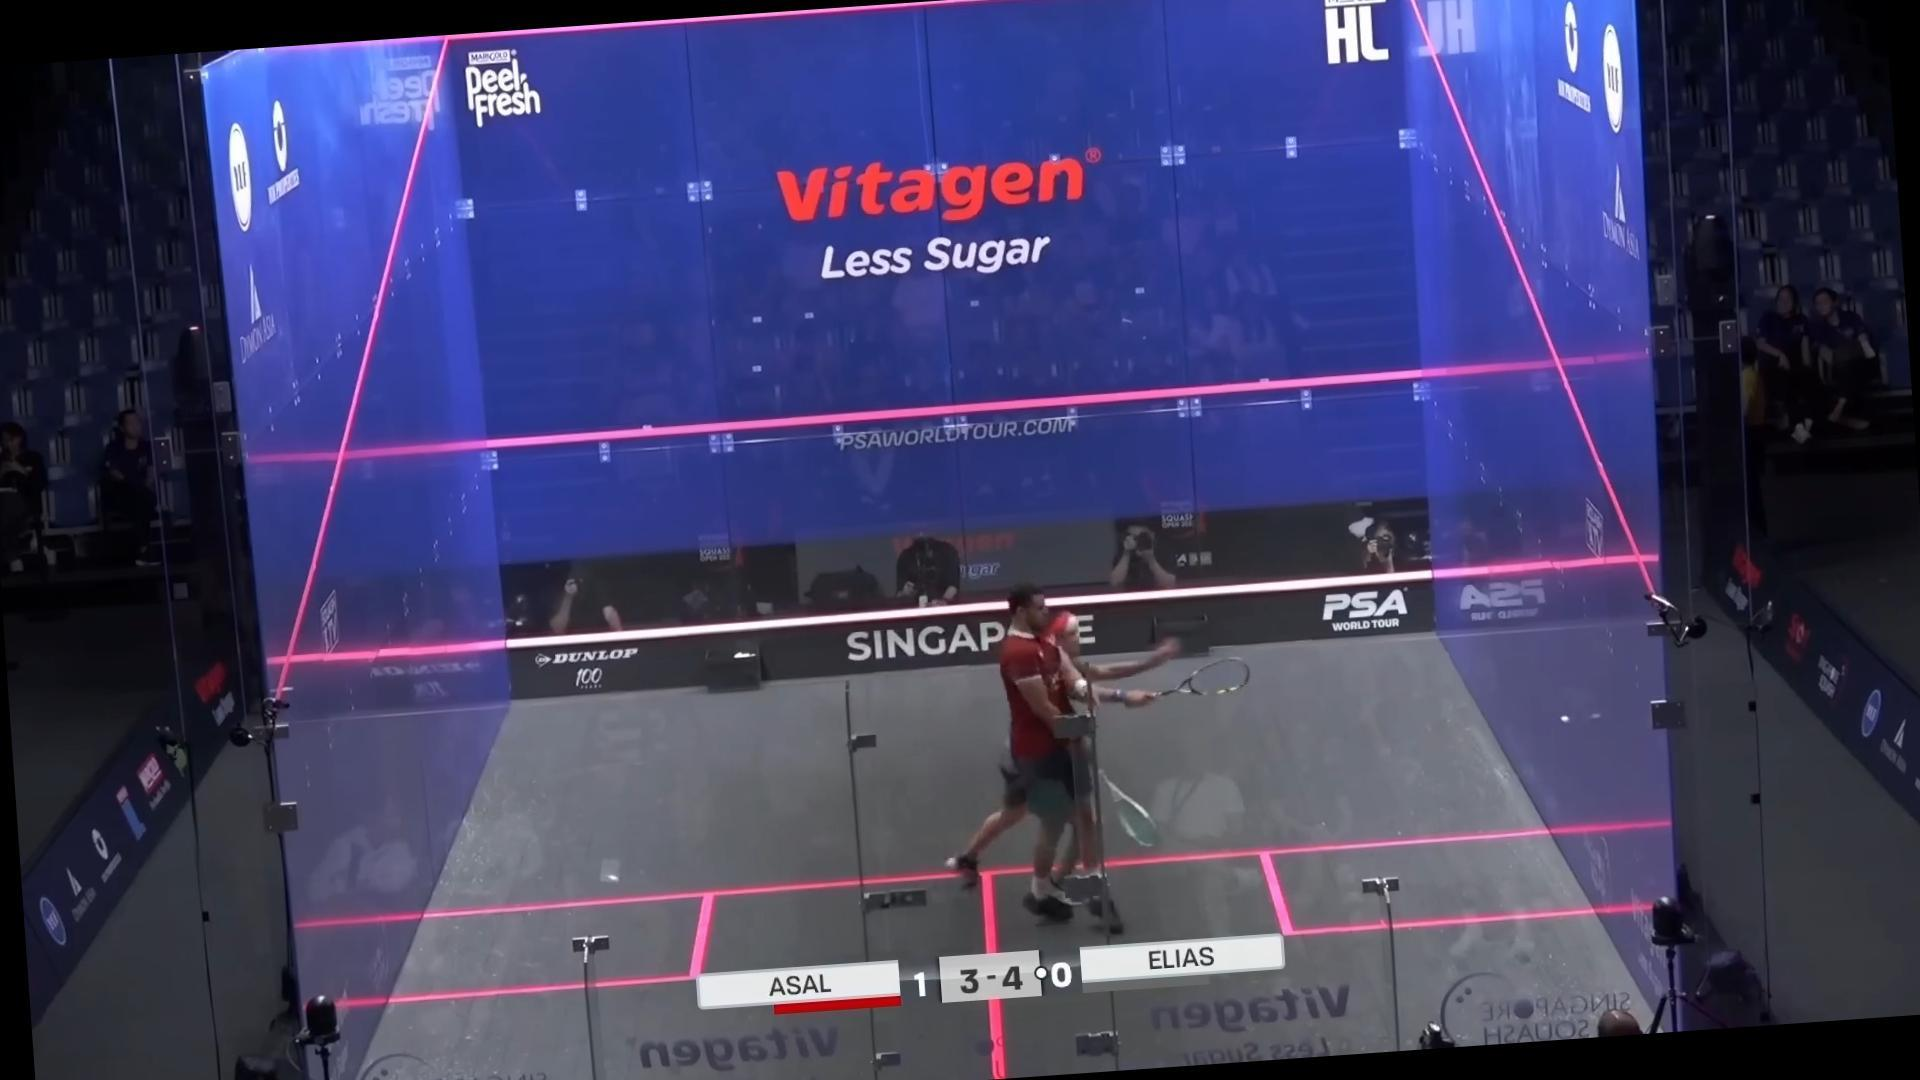Squash-Ball: (1543, 698, 1590, 742)
